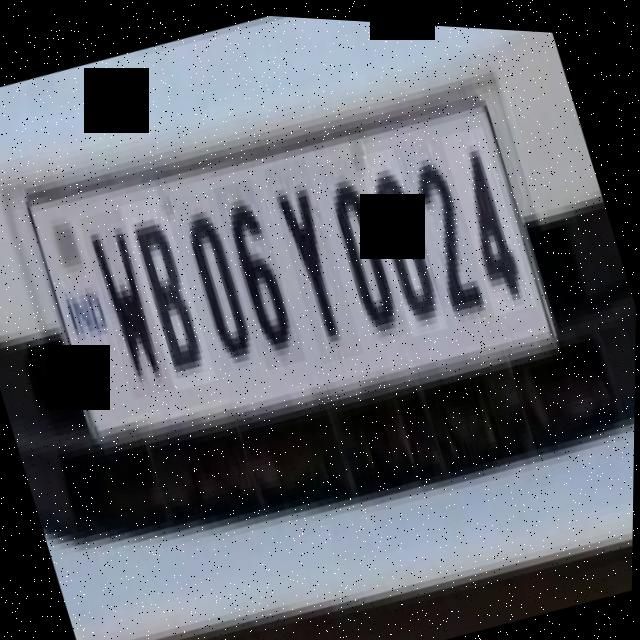0: (357, 140, 453, 334), (169, 185, 268, 372), (319, 151, 413, 340)
4: (439, 119, 539, 313)
6: (211, 175, 310, 370)
B: (119, 191, 221, 391)
W: (78, 205, 177, 400)
Y: (262, 153, 367, 363)
